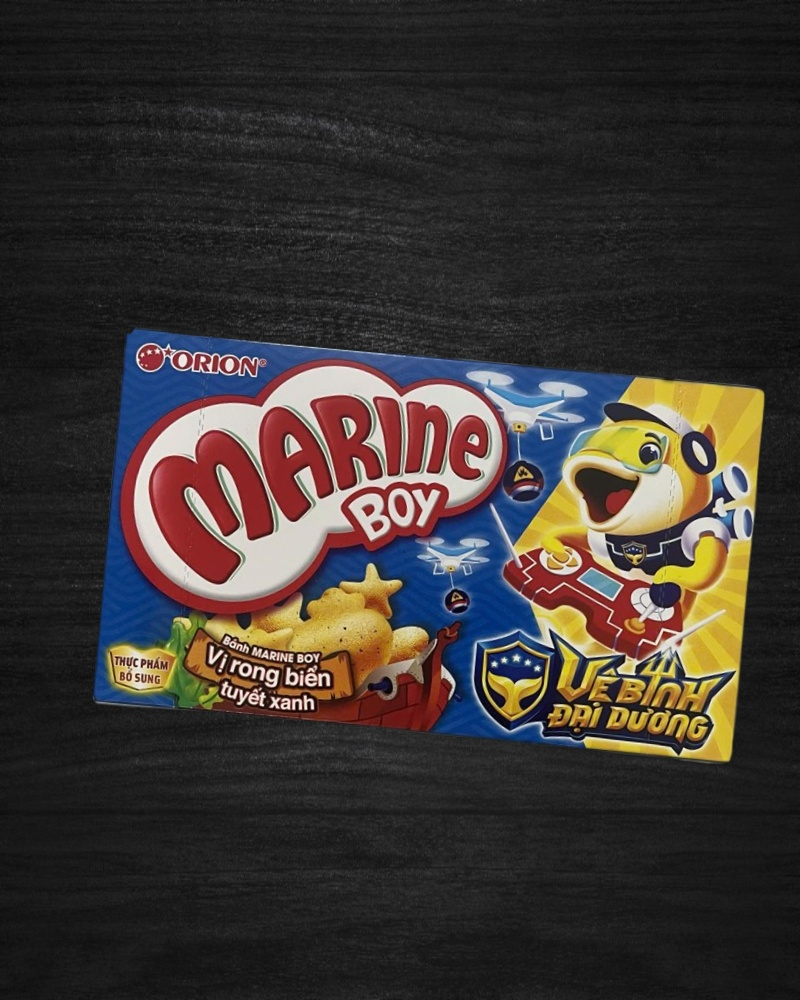Marine: (94, 328, 768, 765)
